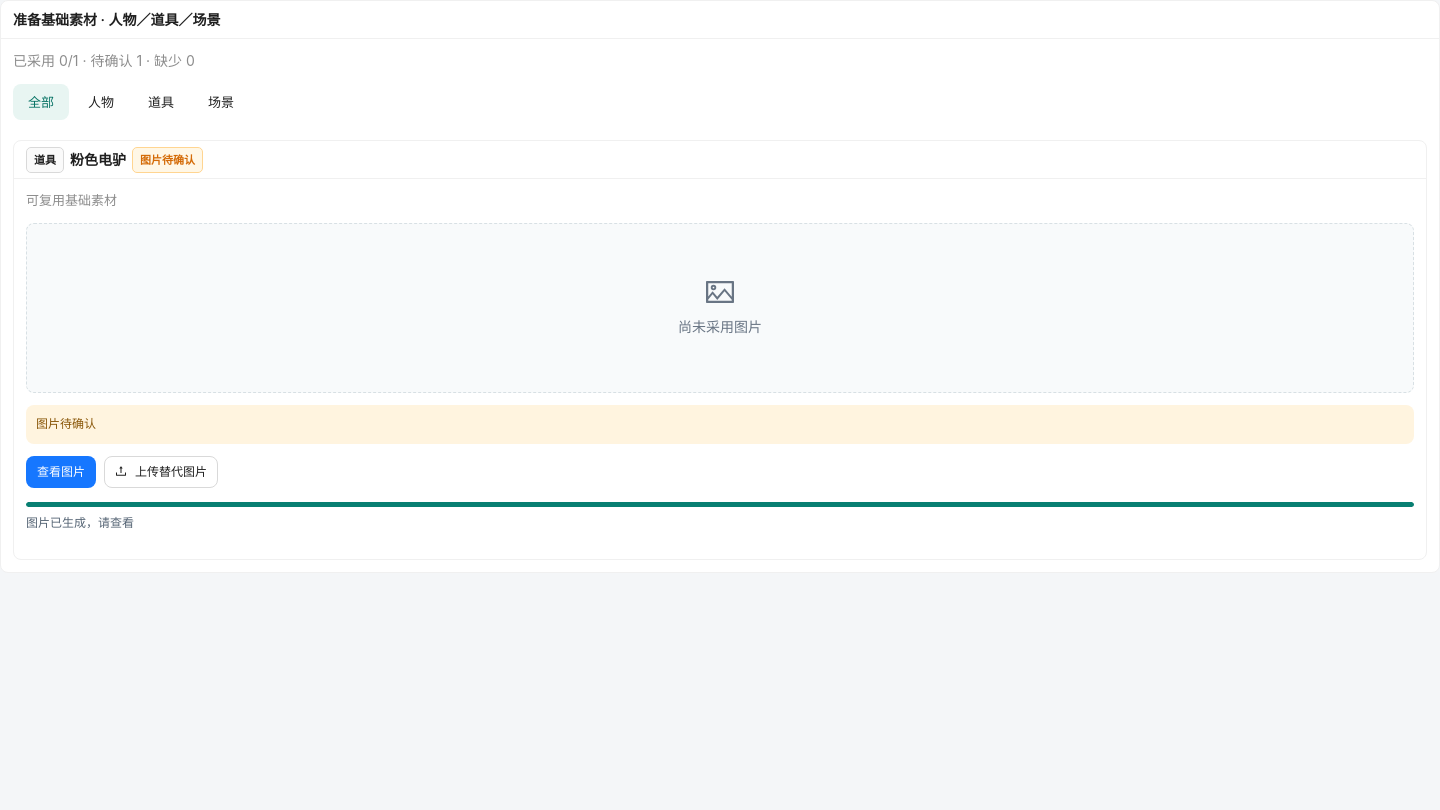
基础素材只操作图片 › 已完成操作之后上传失败只保留上传重试，不错误继续旧生成任务
Click the button "上传替代图片".
click(161, 472)  # box [104,456,218,488]
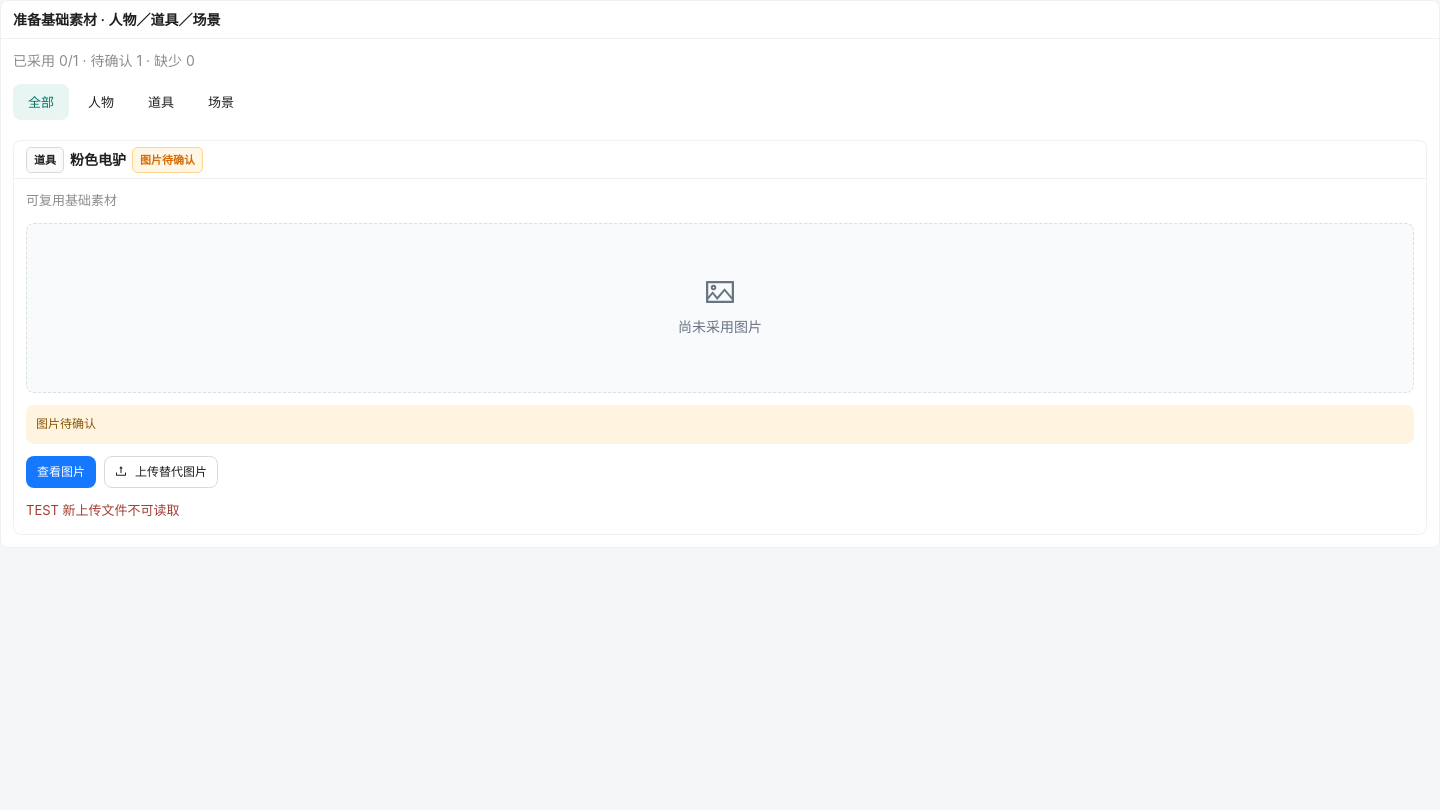
Now the text "TEST 新上传文件不可读取" is shown, box [26,502,180,518]
